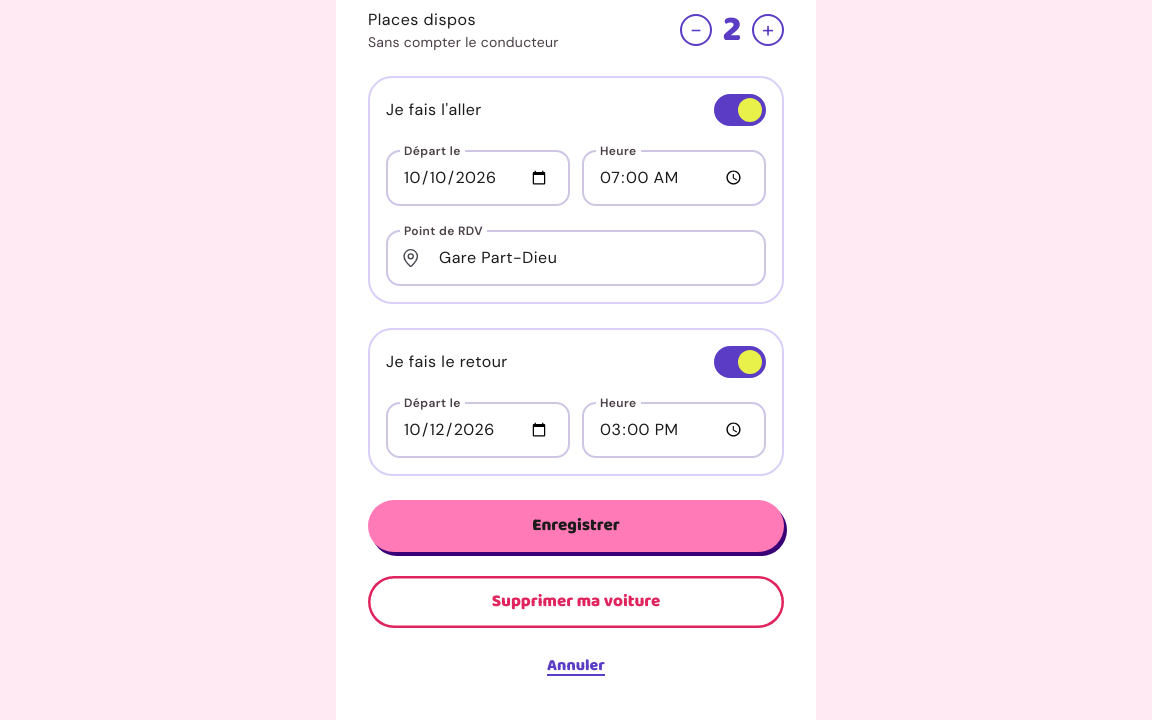
Ma voiture › le conducteur supprime sa voiture après confirmation, en voyant qui perd sa place
(page scrolled)
Click the button "Supprimer ma voiture": click(576, 602) [368,576,784,628]
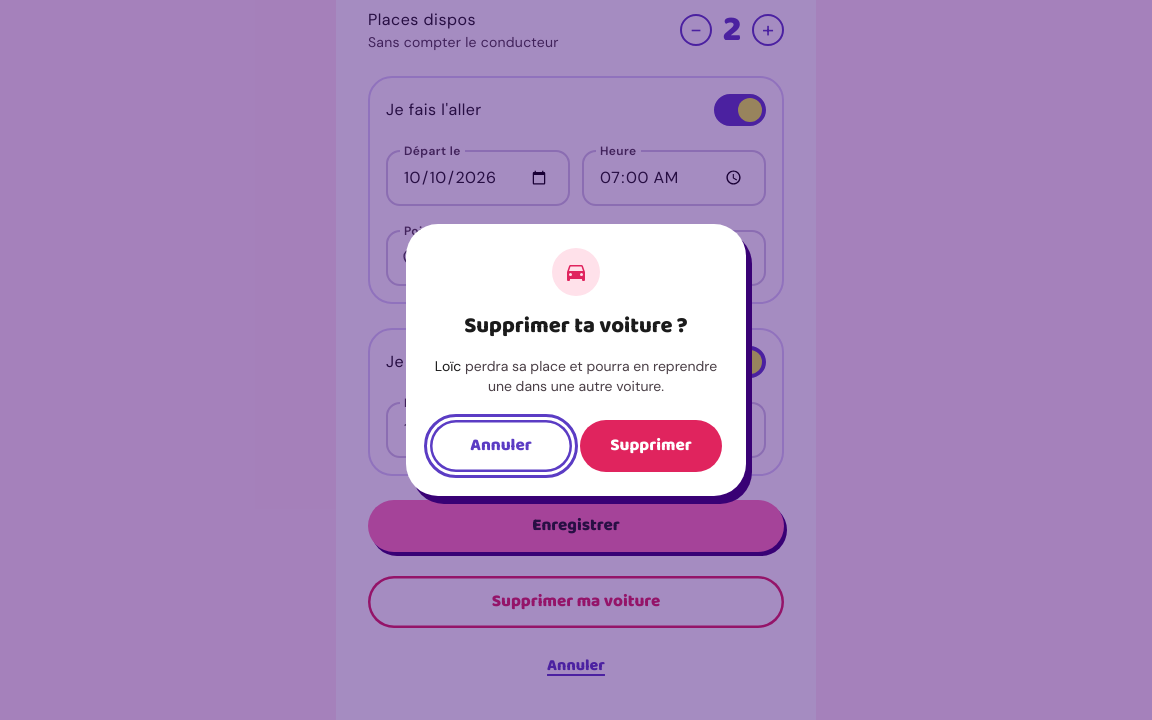
Expected: the dialog "Supprimer ta voiture ?" shows "Loïc perdra sa place et pourra en reprendre une dans une autre voiture.", [406,224,746,496]
Click the button "Supprimer": click(651, 446) [580,420,722,472]
(page scrolled)
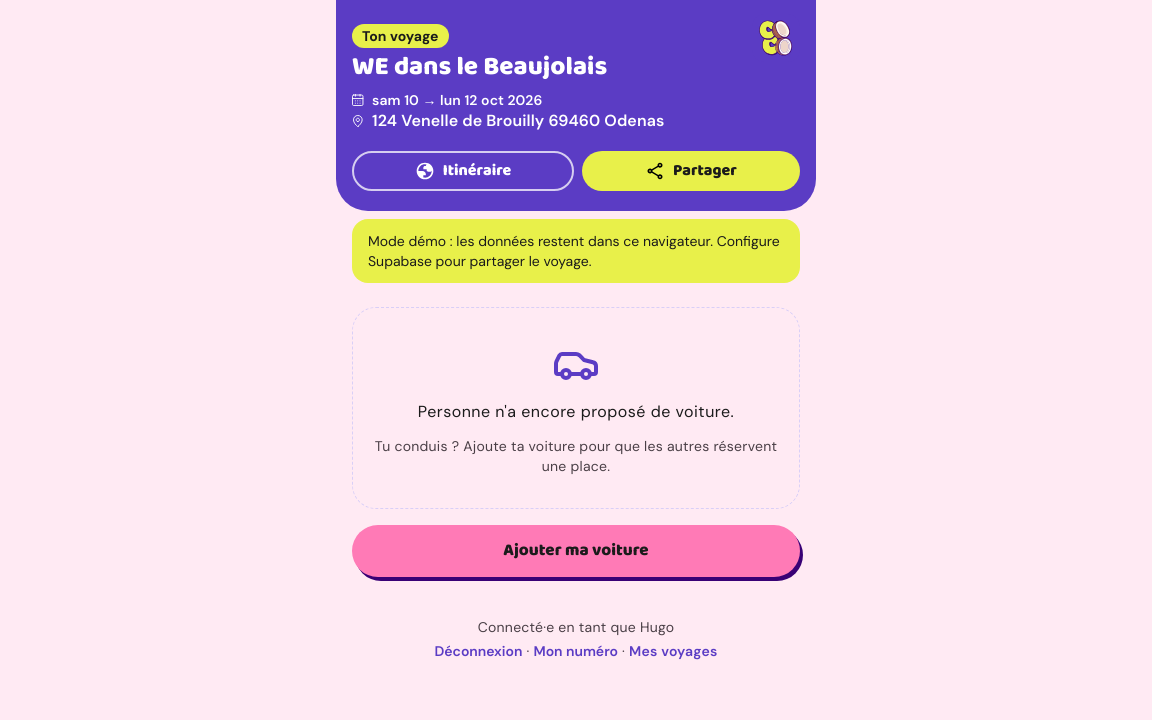
Expected: the text "Ton voyage" is shown, [352,24,449,48]
